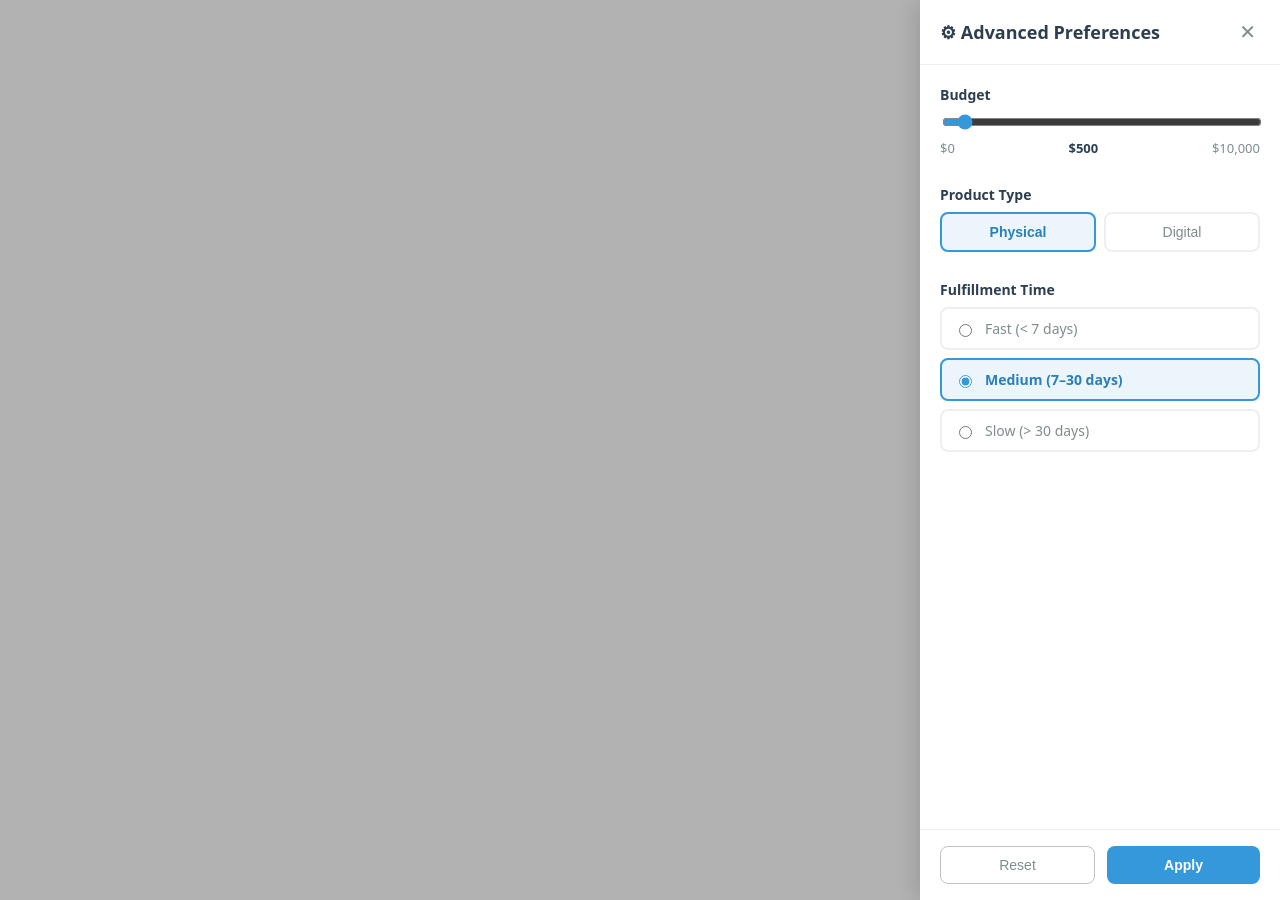
Test case: AdvancedPreferencesDrawer › Reset button restores defaults
Change budget
Set the slider with test id "budget-slider" to "3000": coordinates (1041, 122) [942,114,1262,130]
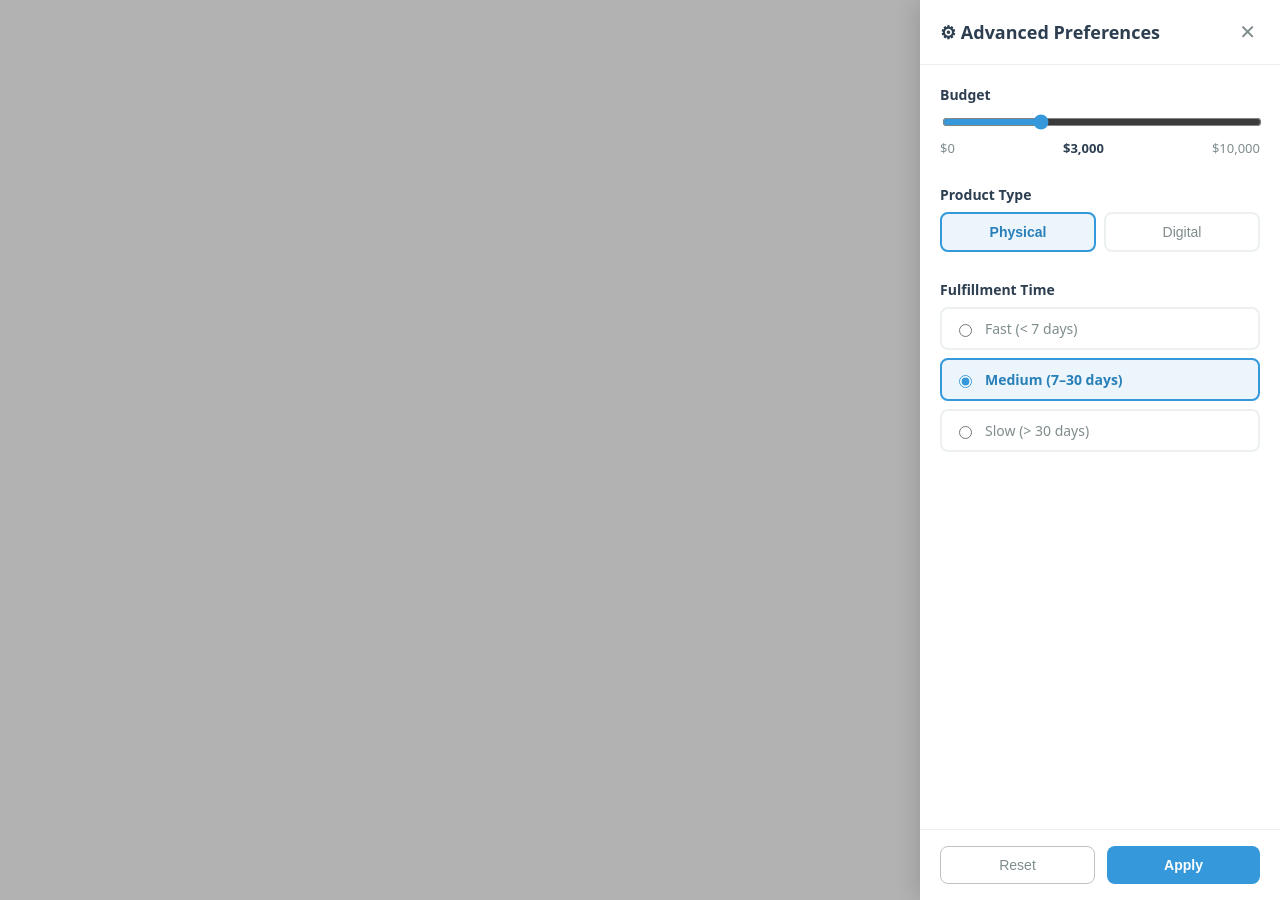
Click Digital
Click the button with test id "product-type-digital": coordinates (1182, 232) [1104,212,1260,252]
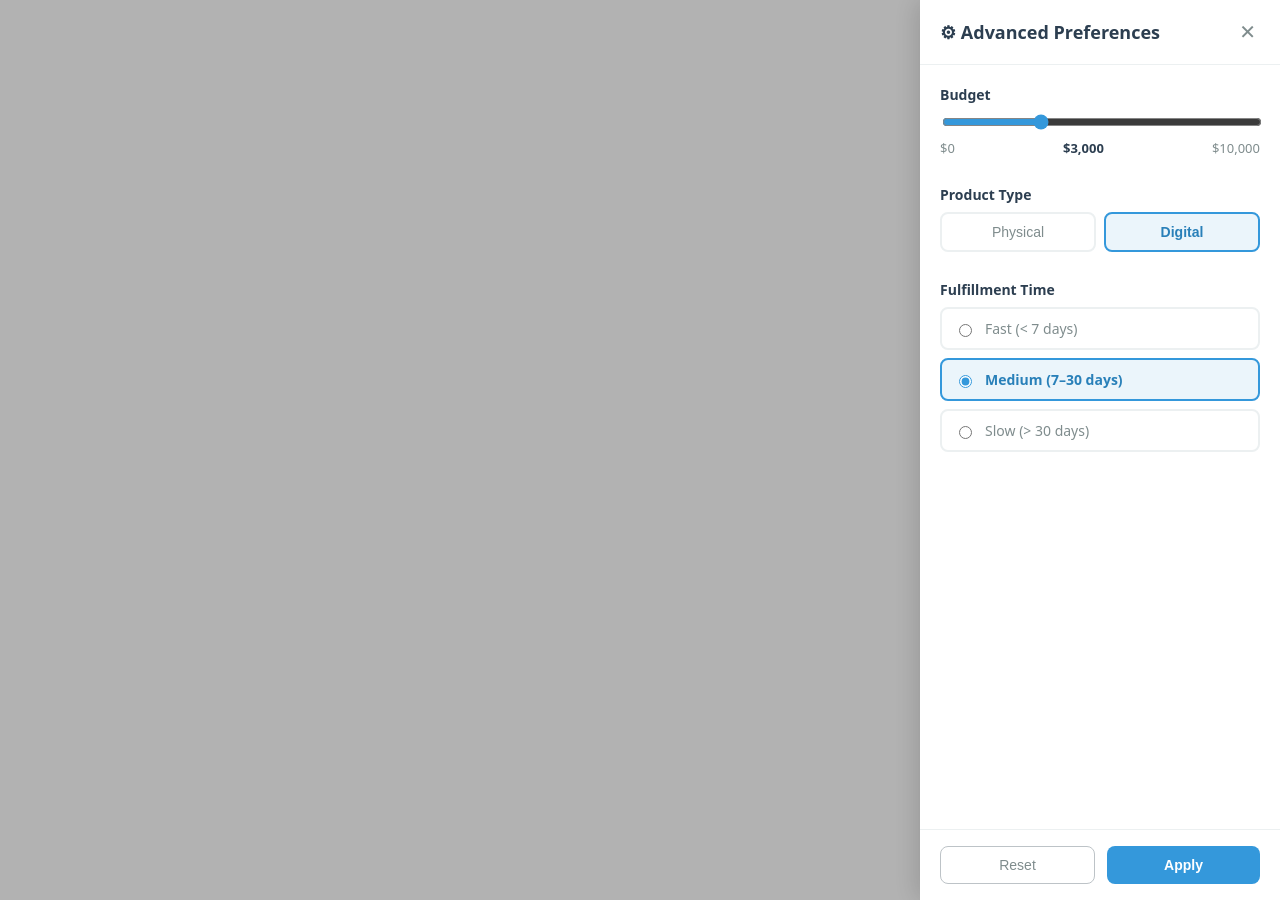
Click Reset
Click the button with test id "reset-button": coordinates (1018, 865) [940,846,1095,884]
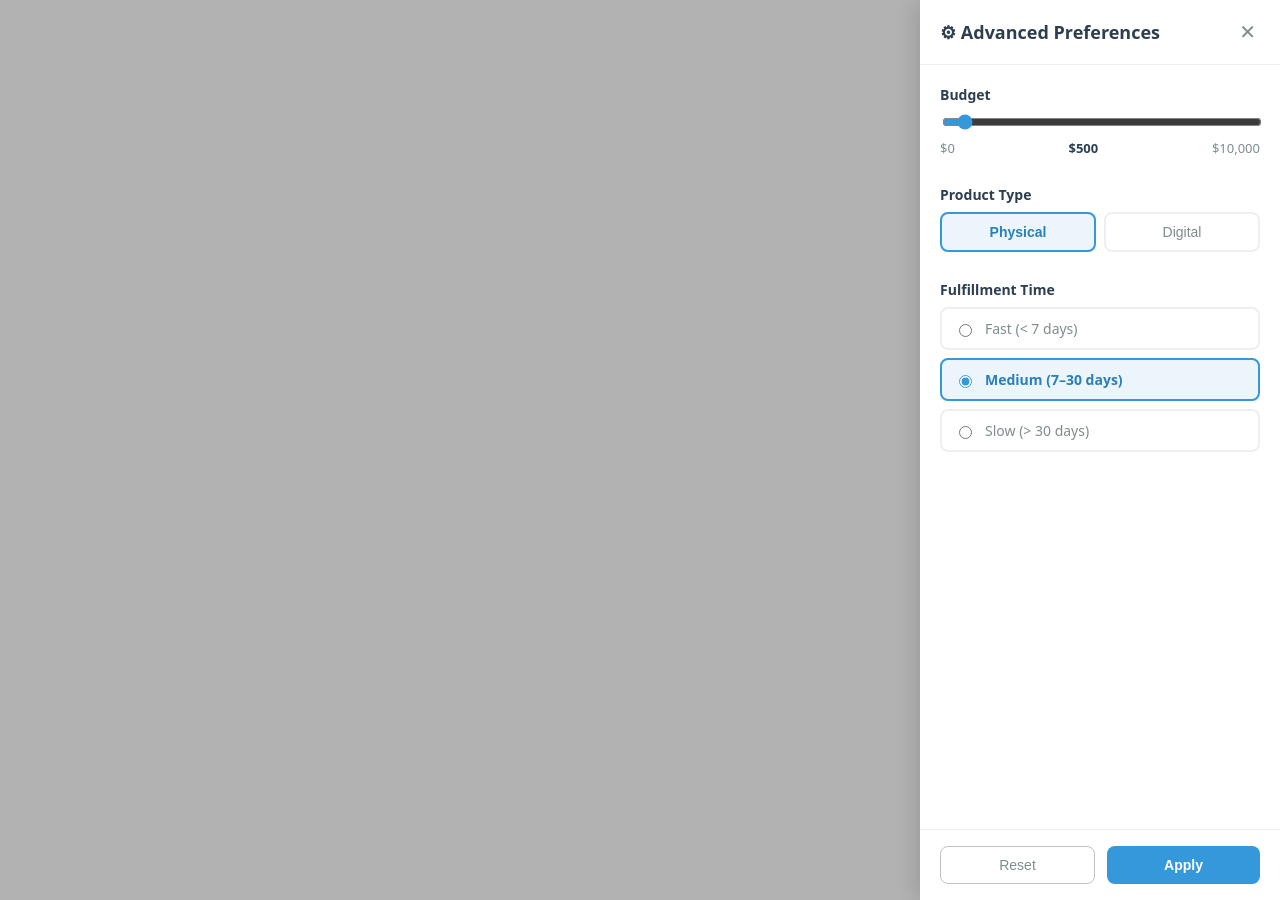
Expected: the slider with test id "budget-slider" holds "500", [942,114,1262,130]
